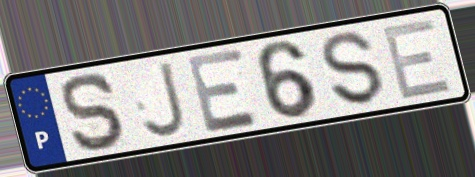6: (254, 38, 321, 122)
E: (183, 45, 264, 136), (378, 15, 456, 103)
J: (140, 58, 190, 141)
S: (59, 70, 131, 154), (319, 29, 388, 108)
